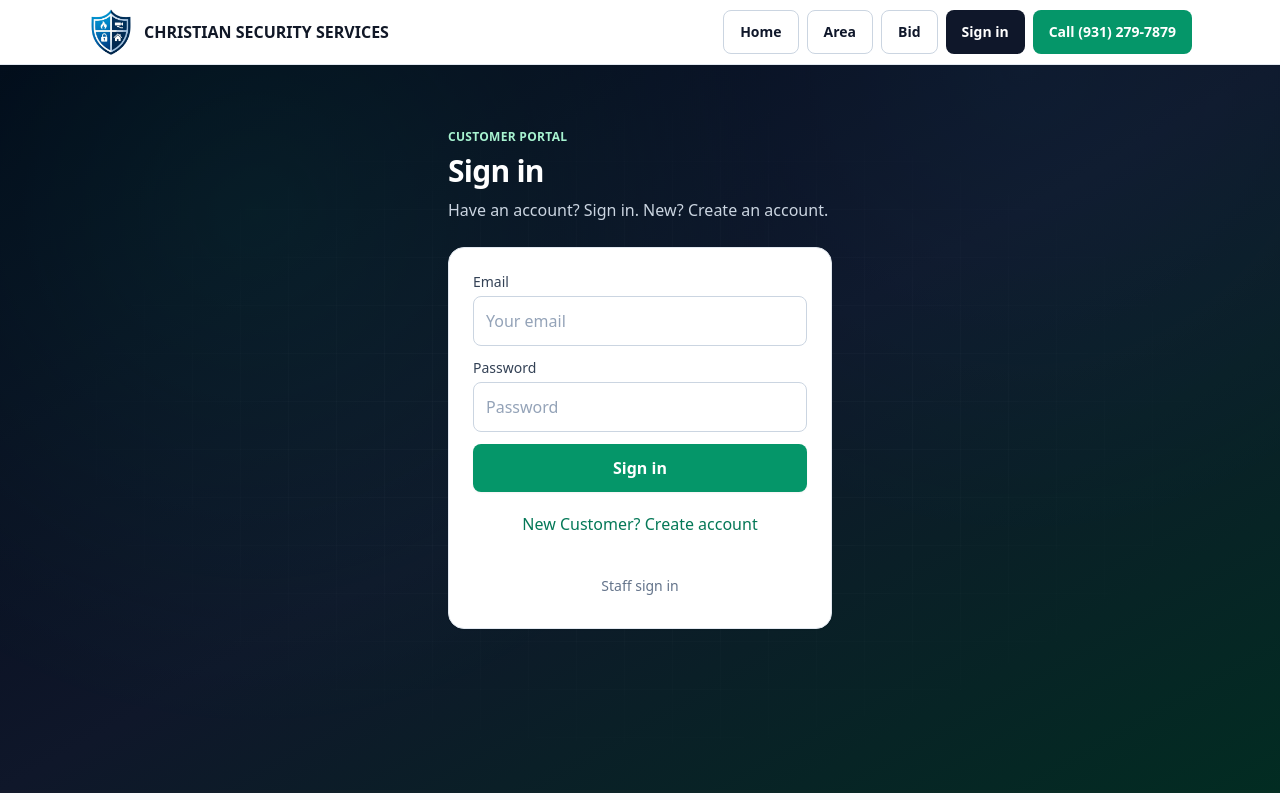
Test: Login Component › Login Functionality › should handle 400 error (invalid credentials)
Click the button "Staff sign in" at [640, 586], box [473,568,807,604]
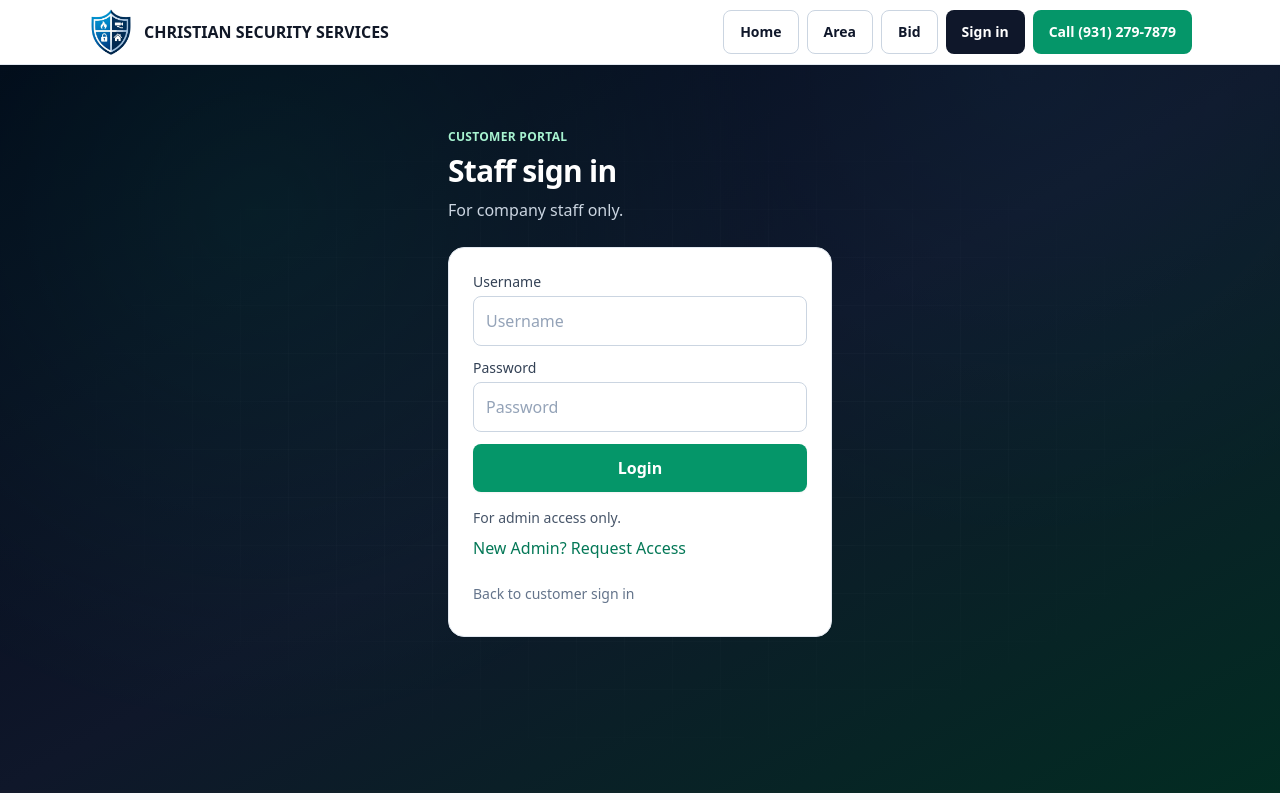
Type "wronguser" into the field with test id "admin-login-username" at [640, 321], box [473,296,807,346]
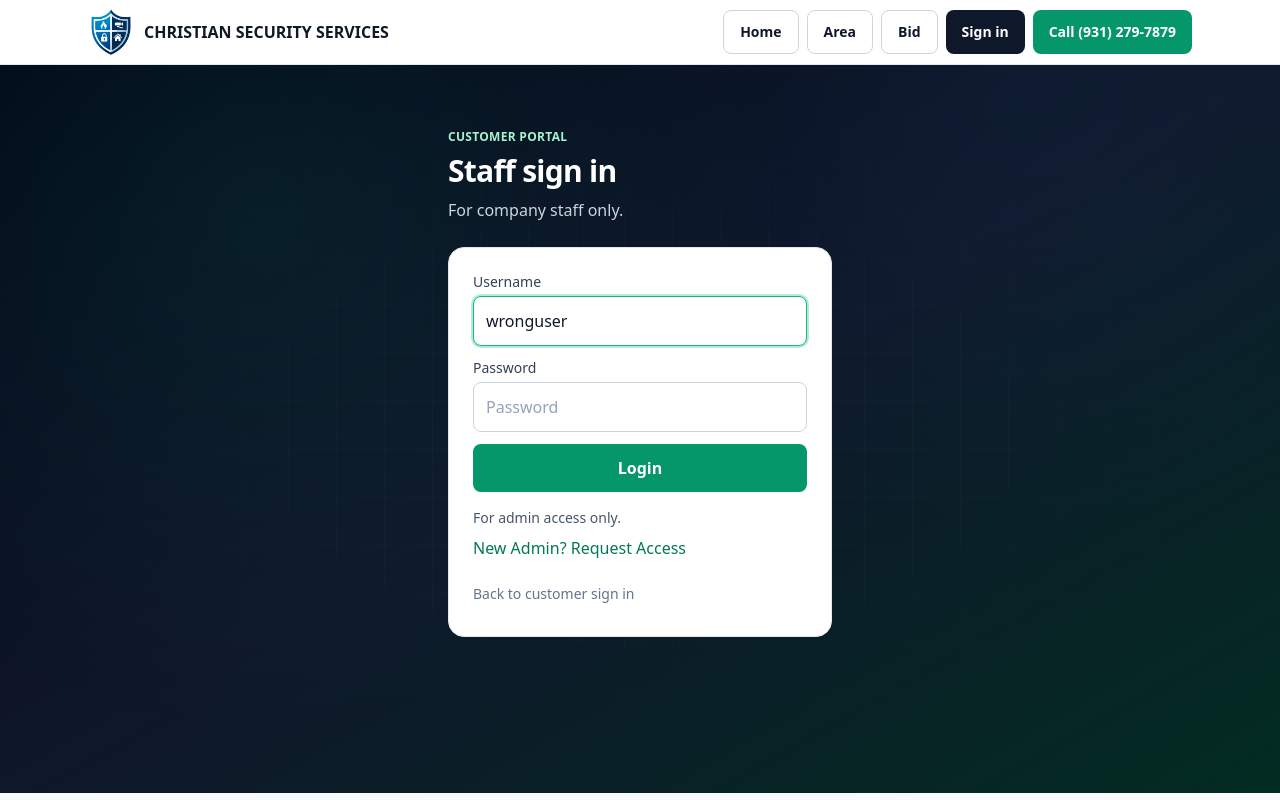
Type "wrongpass" into the password field with test id "admin-login-password" at [640, 407], box [473,382,807,432]
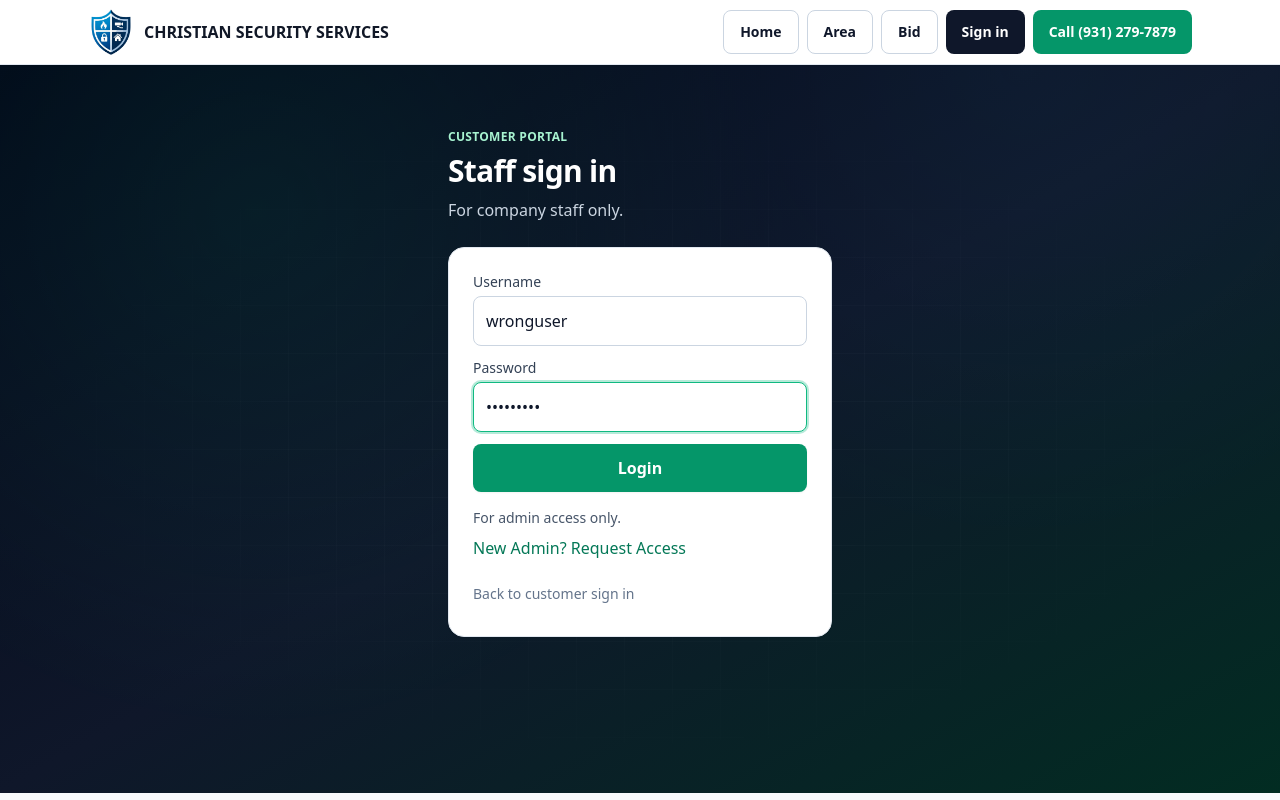
Click the button "Login" at [640, 468], box [473,444,807,492]
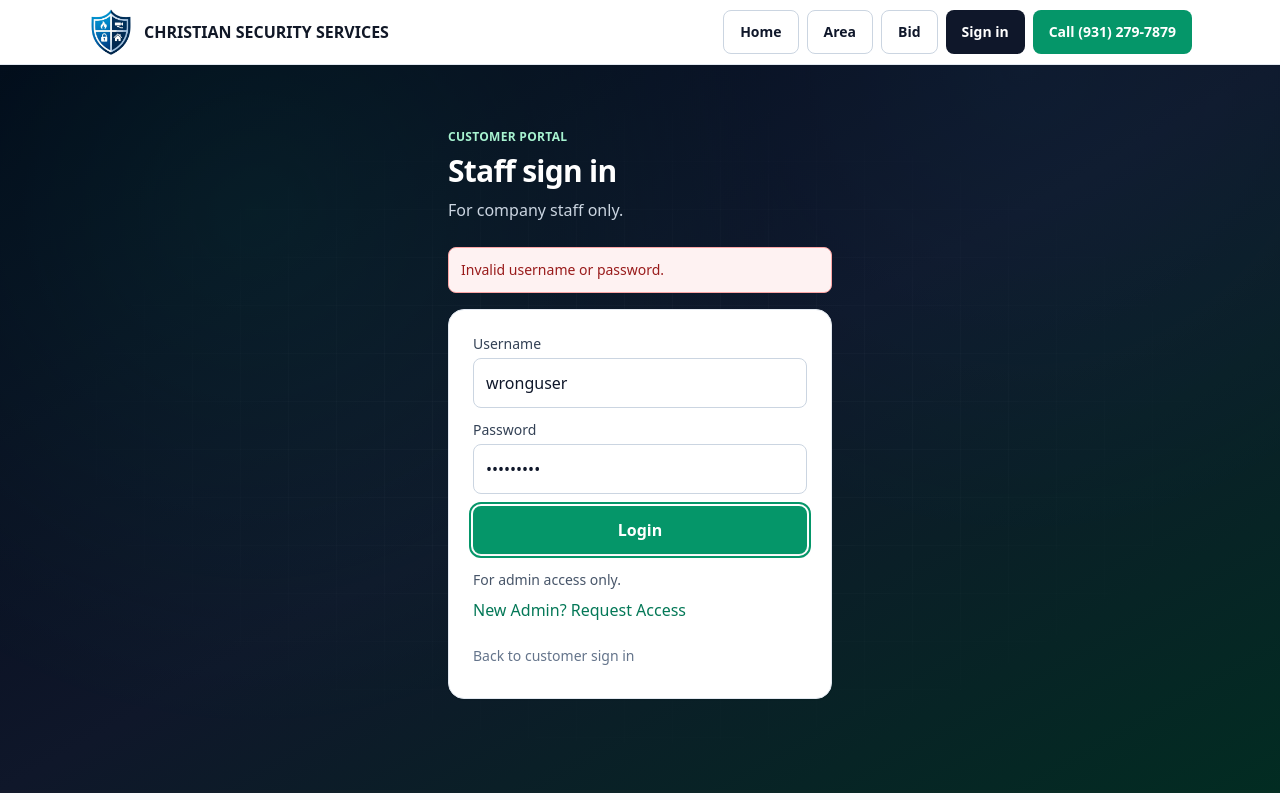
Expected: the message with test id "form-status" shows "Invalid username or password", [461,260,664,279]
